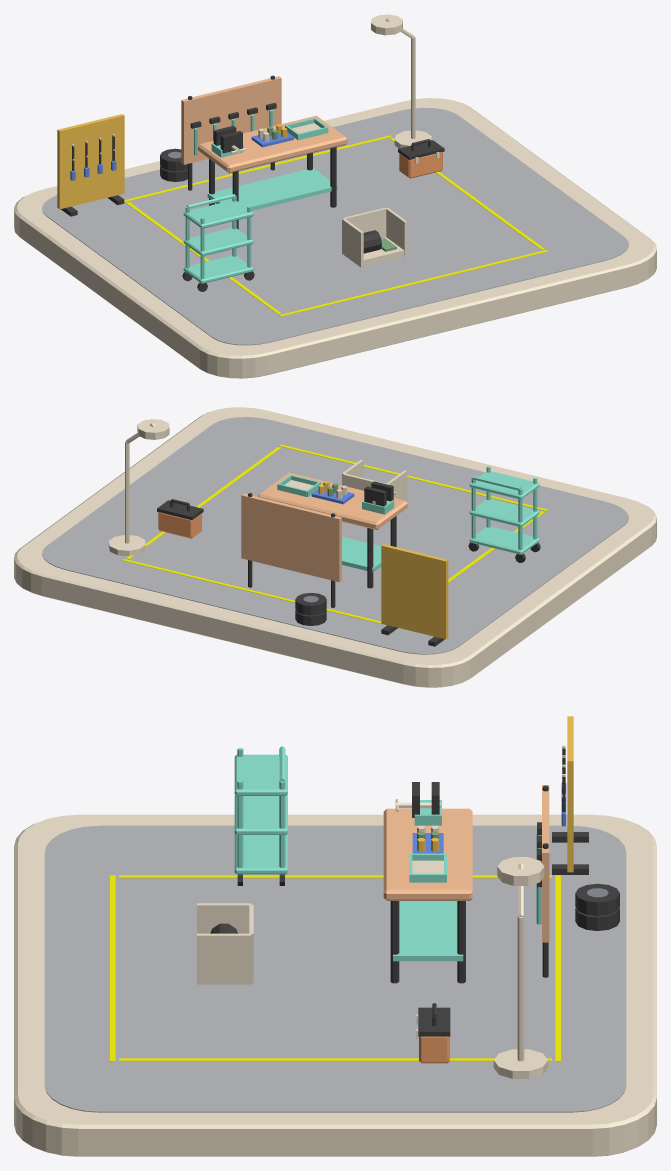
3 renders of one model, top to bottom at view 1: azimuth 30°, elevation 25°; view 2: azimuth 150°, elevation 25°; view 3: azimuth 270°, elevation 25°, orthographic. The views are drawn at different scales.
Parts seen in each view (by area): view 1: COM-02 Floor Surface, COM-01 Rounded Base Direct, Panel, Peg board, Worktop, Lower shelf, Tray.002, Tray, Tray.001, Side, Box, Work zone end (+4 smaller); view 2: COM-02 Floor Surface, COM-01 Rounded Base Direct, Peg board, Panel, Worktop, Tray, Tray.001, Tray.002, Lower shelf, Box, Work zone end, Work zone end.001 (+7 smaller); view 3: COM-02 Floor Surface, COM-01 Rounded Base Direct, Worktop, Lower shelf, Side.001, Tray.002, Tray, Tray.001, Side, Base.002, Peg board, Lamp head (+12 smaller).
Part boxes in pixels (x1,y1,x2,y2): COM-02 Floor Surface: [42, 108, 628, 345]; COM-01 Rounded Base Direct: [14, 98, 656, 378]; Panel: [57, 114, 124, 209]; Peg board: [181, 76, 281, 164]; Worktop: [198, 115, 347, 173]; Lower shelf: [207, 168, 337, 210]; Tray.002: [183, 200, 253, 228]; Tray: [183, 255, 253, 283]; Tray.001: [183, 228, 253, 256]; Side: [342, 218, 363, 267]; Box: [399, 152, 442, 178]; Work zone end: [279, 250, 548, 316]; COM-02 Floor Surface: [42, 417, 628, 654]; COM-01 Rounded Base Direct: [14, 407, 656, 687]; Peg board: [241, 493, 341, 582]; Panel: [381, 544, 448, 639]; Worktop: [258, 472, 407, 529]; Tray: [469, 526, 539, 554]; Tray.001: [469, 499, 539, 527]; Tray.002: [469, 471, 539, 499]; Lower shelf: [342, 537, 381, 572]; Box: [158, 512, 201, 538]; Work zone end: [279, 444, 547, 511]; Work zone end.001: [123, 559, 385, 624]; COM-02 Floor Surface: [44, 825, 626, 1112]; COM-01 Rounded Base Direct: [14, 814, 656, 1156]; Worktop: [383, 808, 472, 900]; Lower shelf: [393, 901, 463, 961]; Side.001: [197, 933, 251, 984]; Tray.002: [234, 754, 287, 795]; Tray: [234, 834, 287, 874]; Tray.001: [234, 795, 287, 834]; Side: [197, 903, 251, 933]; Base.002: [493, 1049, 548, 1078]; Peg board: [542, 785, 549, 942]; Lamp head: [497, 857, 544, 885].
Size of the model in its own units: 6 by 1.96 by 5.2.
Materials: 1 (1 with a texture image).
